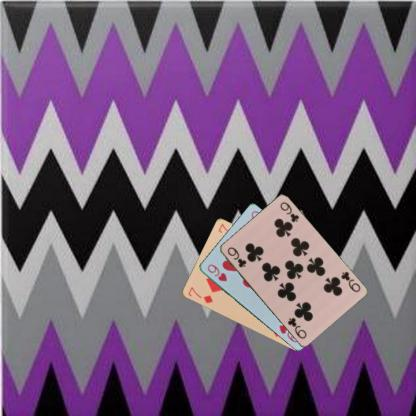7d: (185, 284, 214, 304)
9c: (338, 269, 362, 294), (224, 244, 247, 269)
9h: (204, 262, 228, 282)
